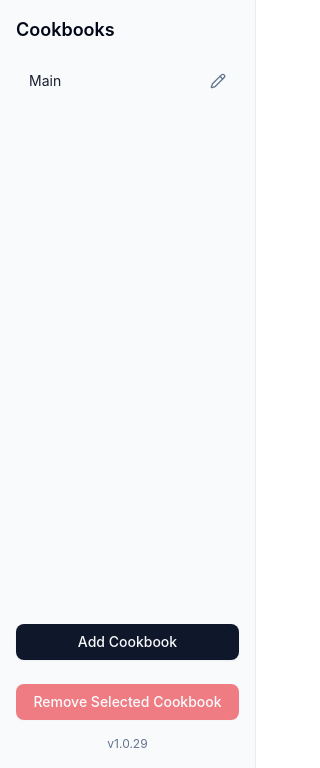
Test: CookbookLayoutSidebar › does not refetch cookbooks when toggling add form
Expected: the button "Main" is shown, x1=21 y1=65 x2=198 y2=97
Click the button "Add Cookbook".
click(128, 642)  # box x1=16 y1=624 x2=239 y2=660
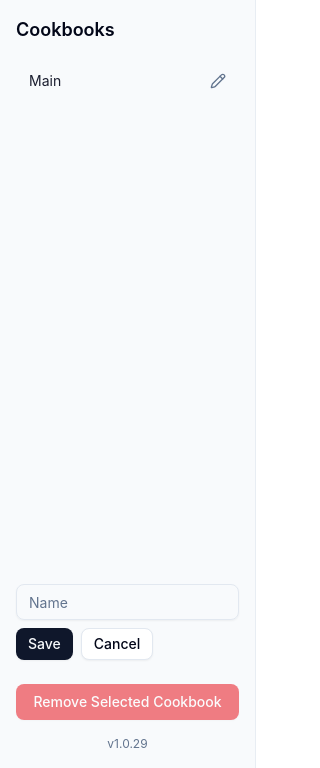
Now the button "Cancel" is shown
Click the button "Cancel".
click(117, 644)  # box x1=81 y1=628 x2=153 y2=660
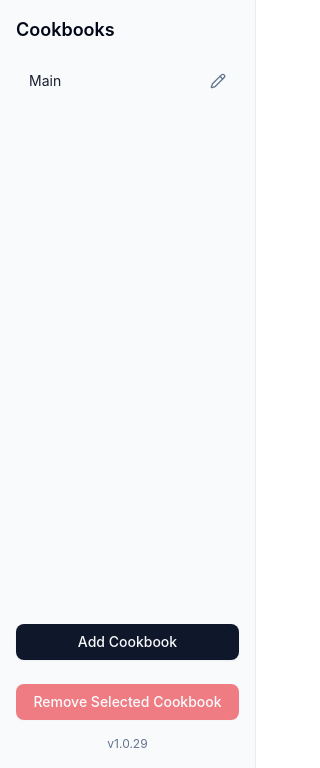
Now the button "Add Cookbook" is shown, box x1=16 y1=624 x2=239 y2=660
